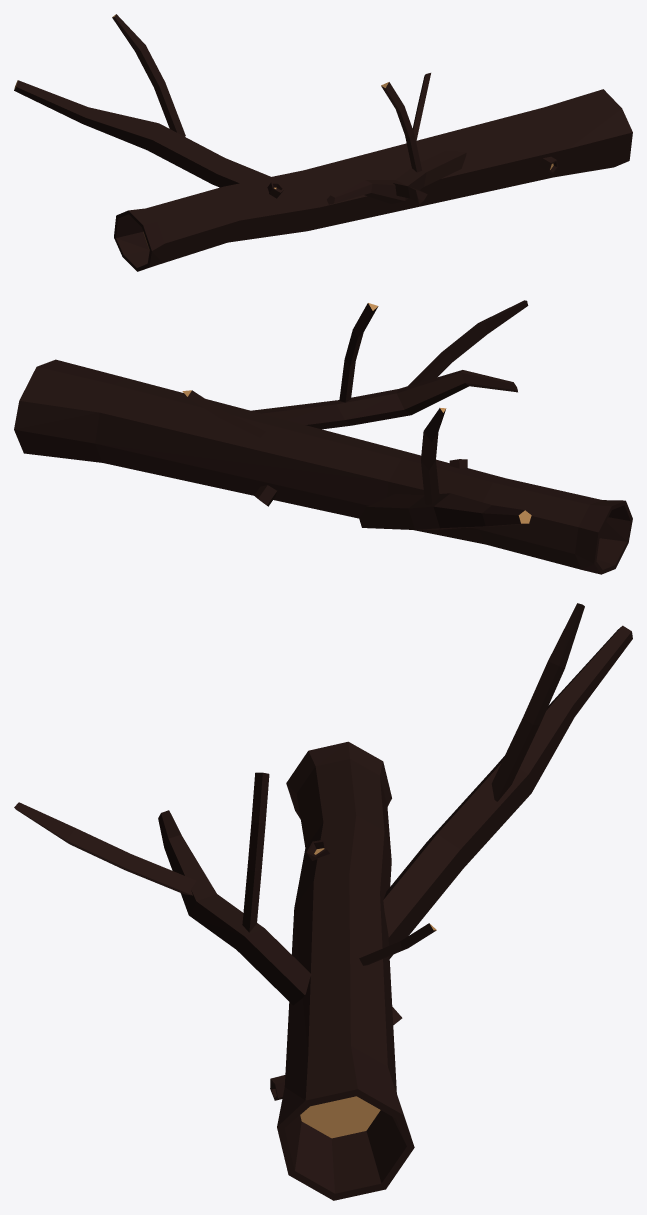
File: SM_trunk_dead_02.FBX
3 renders of one model, top to bottom at view 1: azimuth 30°, elevation 25°; view 2: azimuth 150°, elevation 25°; view 3: azimuth 270°, elevation 25°, orthographic. The views are drawn at different scales.
Parts seen in each view (by area): view 1: Line037; view 2: Line037; view 3: Line037.
Part boxes in pixels (x1,y1,x2,y2): Line037: (14, 14, 632, 271); Line037: (14, 300, 632, 574); Line037: (14, 603, 632, 1200).
Bounding box in the file's own units: 316 × 116 × 224.
